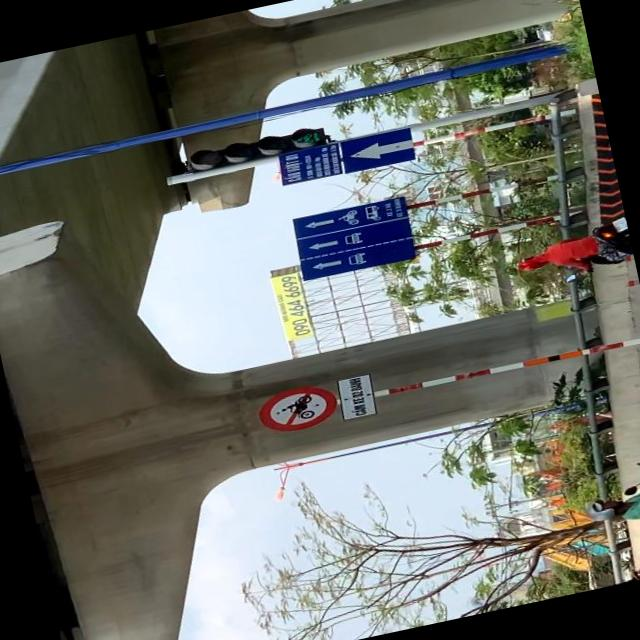I-407a: (338, 126, 418, 173)
P-104: (258, 382, 338, 435)
